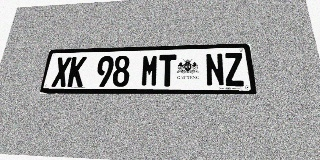8: (112, 55, 131, 87)
9: (95, 56, 115, 87)
K: (67, 56, 87, 87)
M: (141, 55, 159, 87)
N: (205, 53, 225, 86)
T: (158, 54, 176, 87)
X: (51, 57, 72, 87)
Z: (223, 53, 245, 86)
